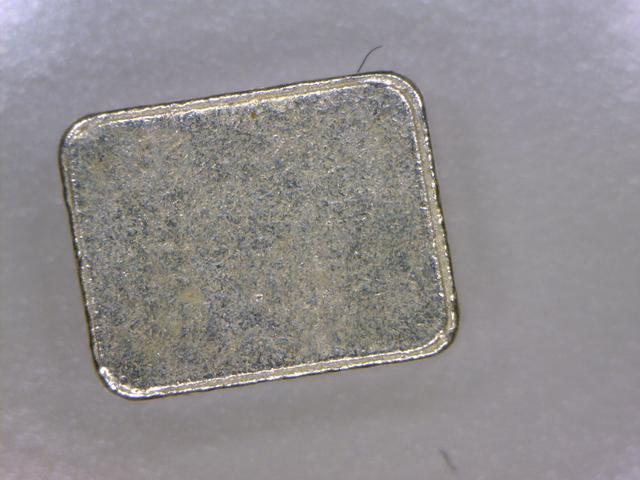nok: (50, 49, 482, 415)
